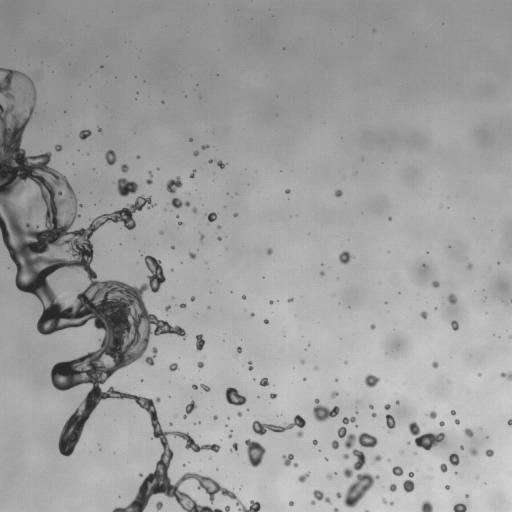droplet: (408, 421, 445, 450), (313, 398, 339, 421), (245, 439, 265, 467), (116, 178, 137, 196), (225, 387, 246, 405), (166, 176, 182, 193), (311, 490, 330, 504), (403, 472, 415, 492), (144, 347, 157, 365), (282, 454, 298, 467), (338, 251, 353, 264), (364, 374, 379, 387), (385, 414, 395, 431), (105, 150, 116, 165), (196, 334, 205, 351), (420, 500, 433, 511), (448, 453, 459, 465), (79, 129, 91, 139), (206, 212, 217, 222), (392, 466, 403, 476), (298, 472, 309, 482), (453, 503, 466, 511), (447, 294, 457, 304), (500, 371, 511, 380), (259, 377, 269, 386), (169, 363, 178, 371), (464, 428, 473, 436), (331, 440, 339, 449), (372, 454, 381, 462), (451, 320, 458, 330), (200, 384, 210, 391), (217, 160, 225, 168), (428, 411, 436, 419), (440, 463, 447, 472), (156, 501, 162, 511), (121, 164, 128, 172), (334, 190, 342, 197), (420, 311, 427, 319), (485, 449, 493, 456), (331, 391, 338, 398), (470, 448, 477, 455), (389, 484, 396, 491), (231, 442, 237, 450), (55, 144, 61, 151), (188, 252, 195, 258), (432, 281, 439, 287), (197, 361, 203, 368), (326, 473, 333, 479), (266, 248, 272, 254), (342, 454, 349, 459), (467, 263, 472, 269), (180, 303, 186, 308), (432, 362, 438, 367), (270, 393, 276, 398), (384, 404, 390, 409), (336, 492, 341, 498), (201, 145, 208, 149), (237, 346, 241, 353), (193, 150, 198, 155), (190, 296, 195, 301), (165, 305, 170, 310), (370, 324, 375, 329), (192, 384, 197, 389), (450, 410, 455, 415), (454, 419, 459, 424), (439, 421, 444, 426), (289, 501, 294, 506), (200, 233, 204, 239), (507, 419, 511, 425), (333, 507, 339, 511), (97, 127, 101, 132), (208, 159, 213, 163), (285, 189, 290, 193), (192, 207, 196, 212), (312, 440, 317, 444), (445, 485, 450, 489), (178, 221, 182, 225), (217, 225, 221, 229), (217, 236, 221, 240), (320, 271, 324, 275), (242, 295, 246, 299), (288, 298, 292, 302), (250, 312, 254, 316), (264, 319, 268, 323), (369, 405, 373, 409), (237, 412, 241, 416), (213, 415, 217, 419), (269, 300, 272, 304), (234, 213, 237, 216), (301, 360, 304, 363), (396, 401, 399, 404), (372, 413, 375, 416), (228, 434, 231, 437), (460, 446, 463, 449), (139, 473, 142, 476), (465, 494, 468, 497), (137, 155, 139, 158), (176, 215, 179, 217), (160, 231, 162, 234), (171, 246, 174, 248), (344, 361, 347, 363), (478, 373, 480, 376), (303, 378, 306, 380), (335, 378, 337, 381), (169, 423, 172, 425), (325, 458, 328, 460), (189, 139, 191, 141), (389, 218, 391, 220), (423, 264, 425, 266), (315, 367, 317, 369)
ligament: (0, 67, 259, 511), (337, 416, 379, 507), (252, 414, 305, 437), (183, 401, 196, 418), (171, 197, 189, 208), (146, 171, 152, 184), (382, 498, 393, 505), (189, 170, 195, 178), (248, 361, 253, 370), (510, 335, 511, 338), (365, 510, 368, 511)
